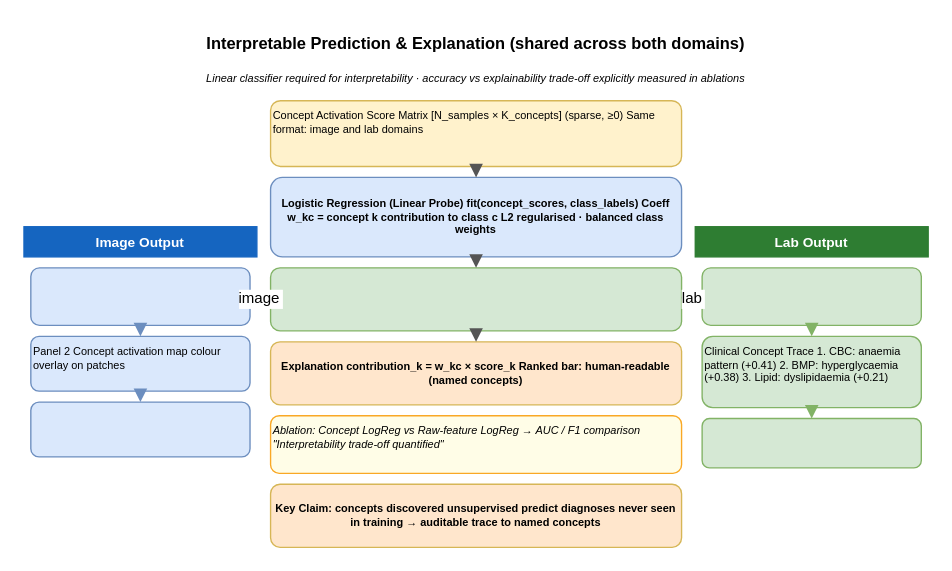
Image size: 952x571. Some labels were removed from this diagram. Each missing label, with the centre of its shape:
Auditability All concepts human-validated No black-box features used: (x=811, y=442)
Panel 1 Original + predicted class "Predicted: Cat (91%)": (x=139, y=295)
Panel 3 Contribution bar chart +/− per named concept: (x=139, y=429)
Prediction + Probability "Diabetes p=0.82" Top concept contributions listed: (x=811, y=295)
Prediction Image: Cat / Car / Bird Lab: Diabetes / Hypertension / Normal: (x=475, y=298)
